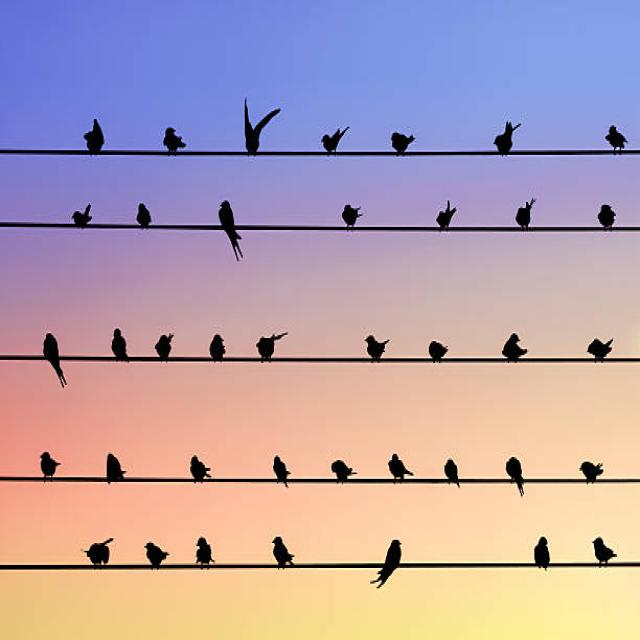bird: (244, 105, 283, 155), (371, 538, 406, 587), (215, 202, 241, 250), (268, 534, 297, 570), (40, 335, 62, 380), (590, 536, 620, 566), (492, 120, 518, 154), (81, 539, 111, 568), (161, 126, 189, 154), (321, 127, 349, 154), (498, 332, 524, 361), (143, 540, 169, 568), (82, 121, 104, 154), (531, 535, 553, 568), (582, 336, 612, 360), (192, 536, 215, 567), (108, 328, 130, 360), (389, 129, 417, 154), (386, 452, 409, 482), (255, 334, 280, 361), (103, 452, 127, 480), (435, 199, 456, 230), (363, 335, 387, 362), (513, 198, 534, 228), (604, 126, 628, 152), (578, 459, 604, 483), (151, 333, 174, 360), (188, 456, 211, 483), (207, 334, 228, 362), (329, 459, 354, 482), (37, 452, 59, 478), (338, 200, 359, 227), (270, 454, 289, 482), (594, 202, 614, 228), (504, 456, 524, 482), (72, 205, 93, 229), (426, 339, 448, 360), (133, 201, 151, 225), (442, 459, 459, 483)
